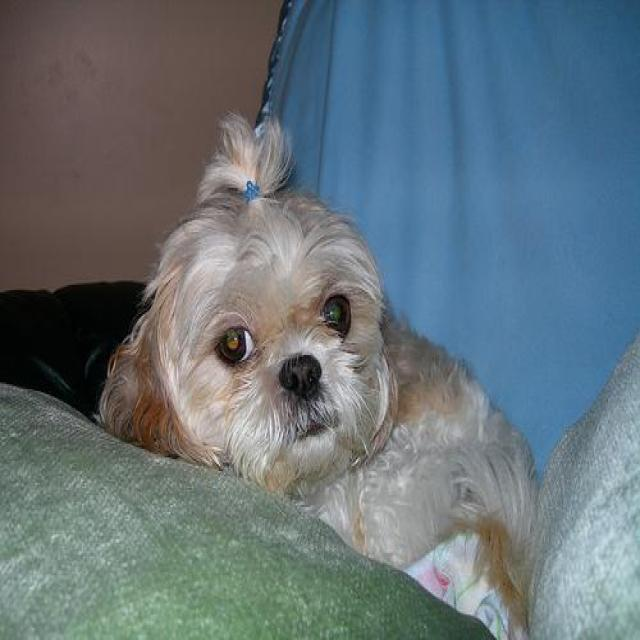shih_tzu: (96, 104, 535, 637)
